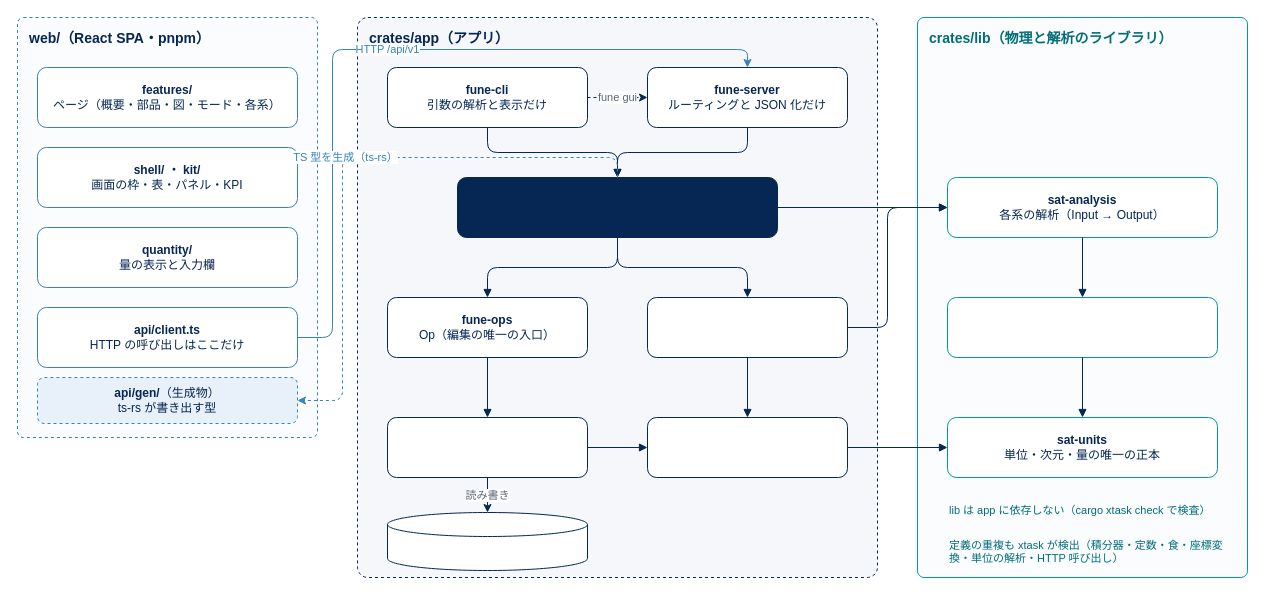
Some shapes in this 1265 by 595 pixel diagram are drawn without their labels. Here are the shapes that lost their labels. From the top down, the centre of each, then its label:
pixel 617 207: fune-service CLI と HTTP が呼ぶ関数すべて・DTO
pixel 747 327: fune-projection モデル → 解析の入力
pixel 1082 327: sat-astro 軌道・天体・力モデル・食・積分器・時系列
pixel 487 447: fune-store ファイル I/O（toml_edit）
pixel 747 447: fune-model 型・語彙・解決・検証
pixel 487 541: 設計データリポジトリ parts/ modes/ nets/ …
